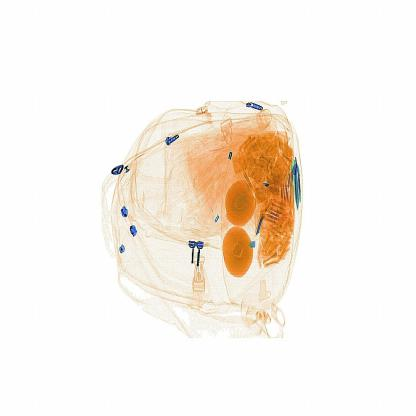pliers: (248, 199, 278, 247)
